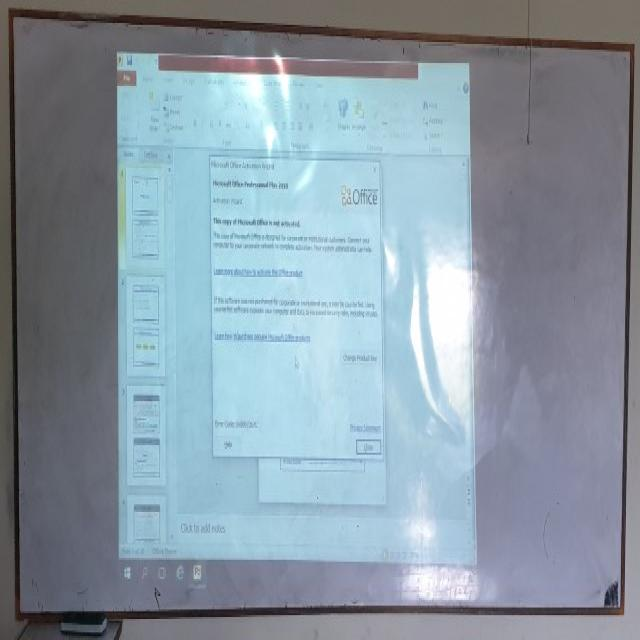Slide: (117, 50, 477, 592)
White-board: (10, 11, 633, 615)
